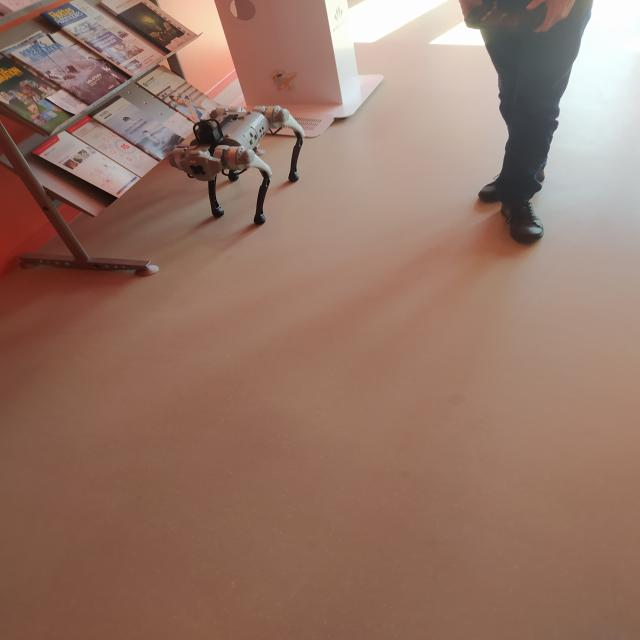unitree-go1-robot: (159, 91, 319, 233)
